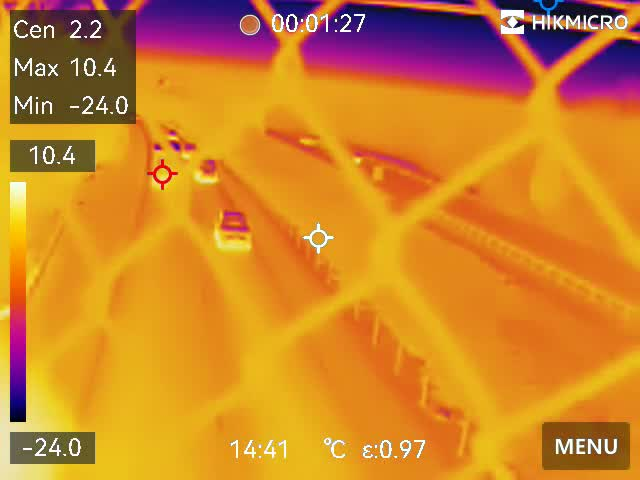vehicle: (211, 205, 255, 256), (189, 157, 220, 184), (176, 140, 200, 157), (164, 127, 181, 139)
